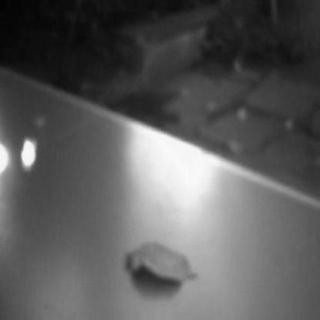other: (134, 125, 218, 207)
